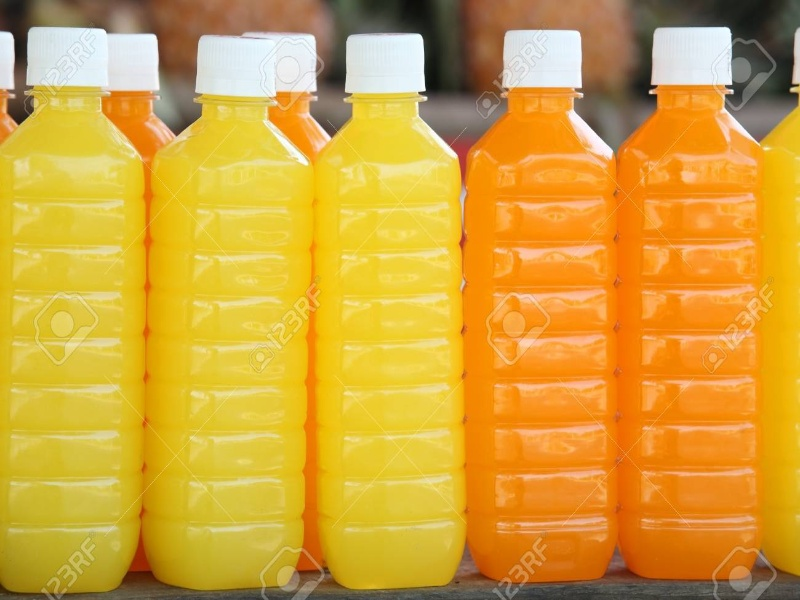Jugo de naranja: (151, 35, 313, 588), (463, 29, 617, 583), (313, 34, 463, 588), (615, 27, 762, 581), (2, 27, 146, 591), (241, 33, 337, 572), (95, 34, 177, 573), (757, 29, 799, 582)
